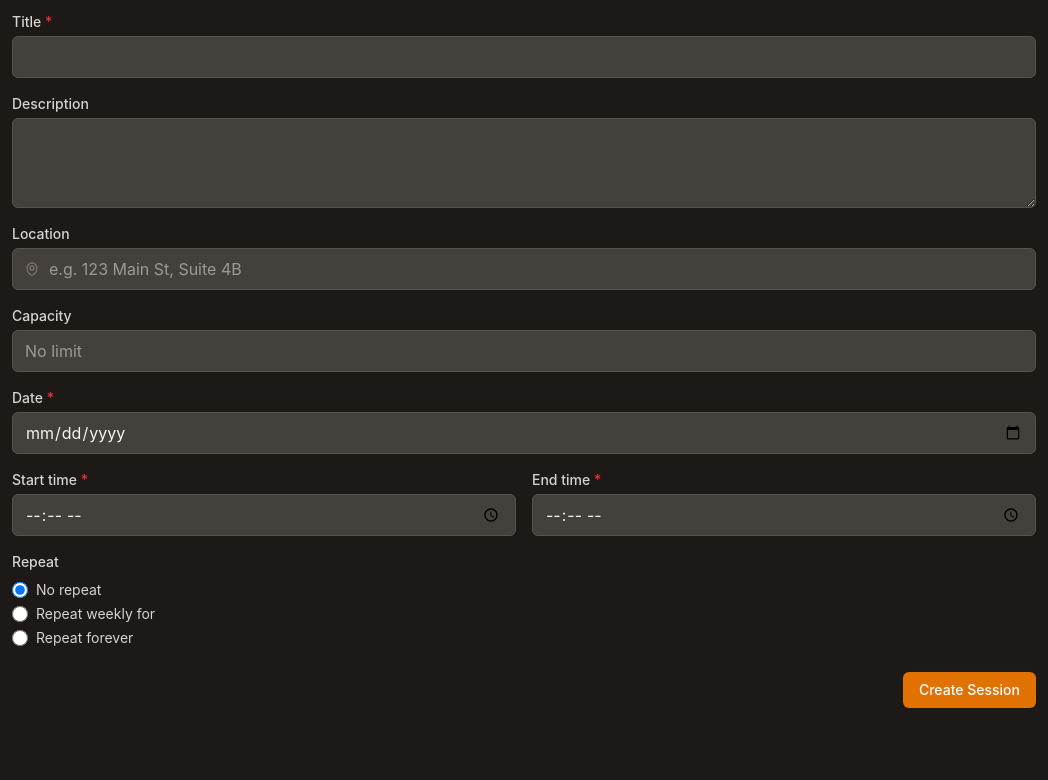
Test case: SessionForm › create mode › validates end time after start time
Type "Test" into the field labelled "Title *".
click(524, 57); type("Test")  # box [12, 36, 1036, 78]
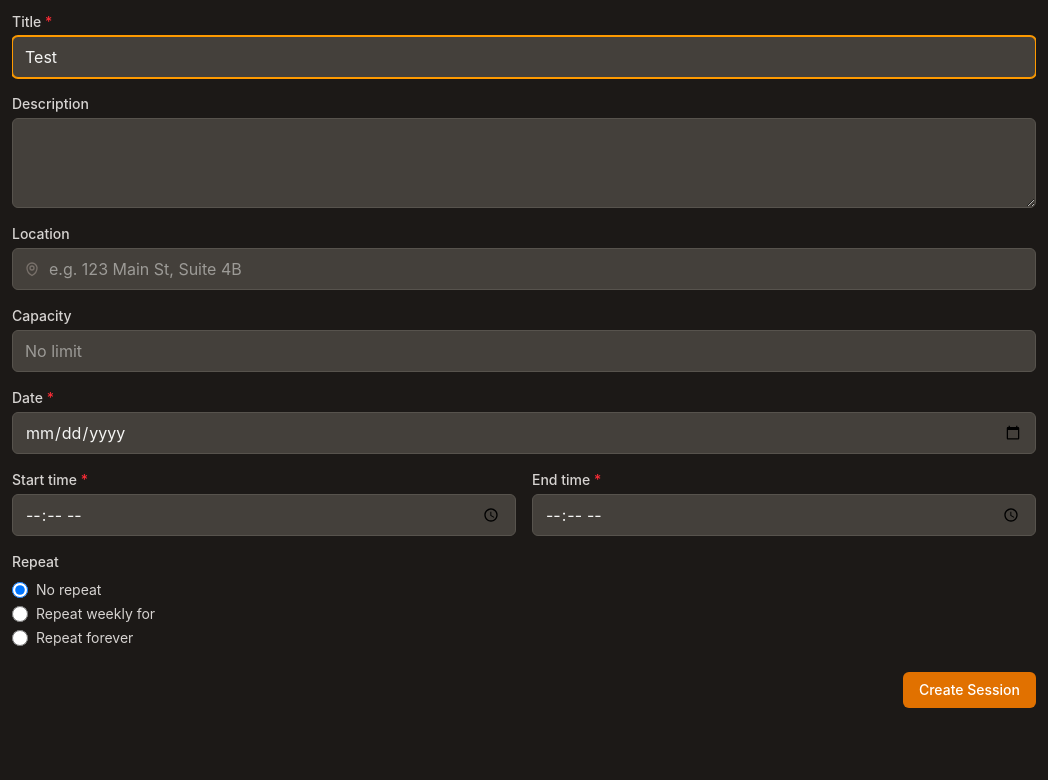
Type "2026-04-01" into the date field labelled "Date *".
click(524, 433); type("2026-04-01")  # box [12, 412, 1036, 454]
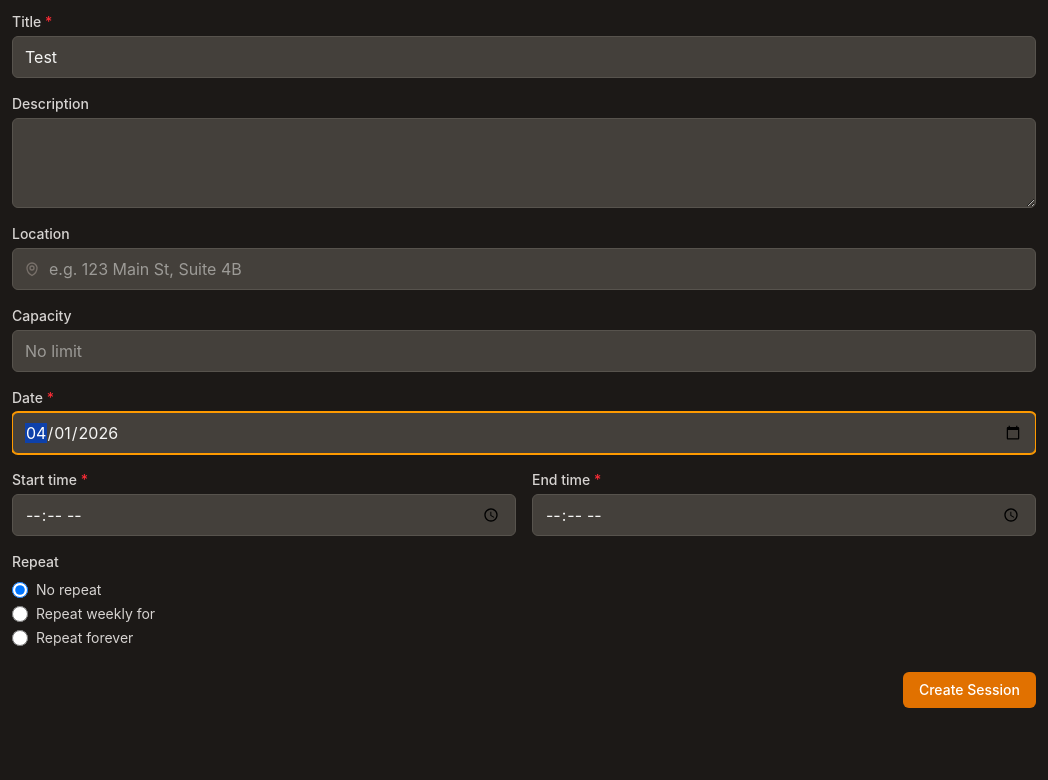
# Type time values using the input
Type "18:00" into the time field labelled "Start time *".
click(264, 515); type("18:00")  # box [12, 494, 516, 536]
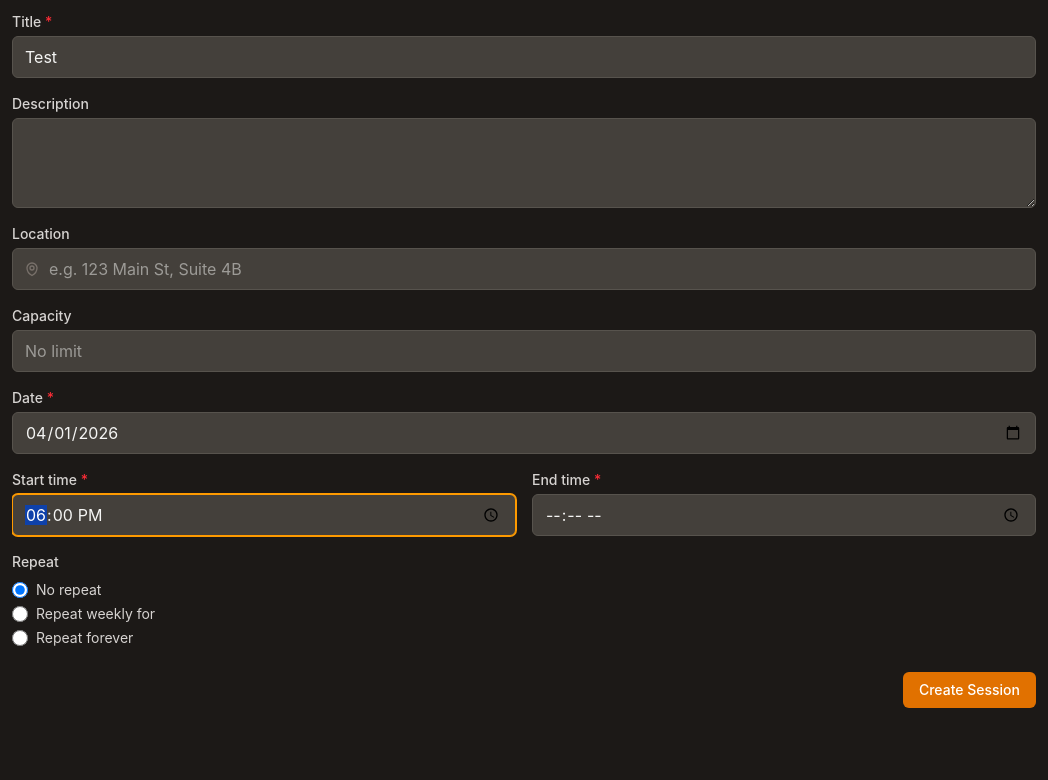
Type "14:00" into the time field labelled "End time *".
click(784, 515); type("14:00")  # box [532, 494, 1036, 536]
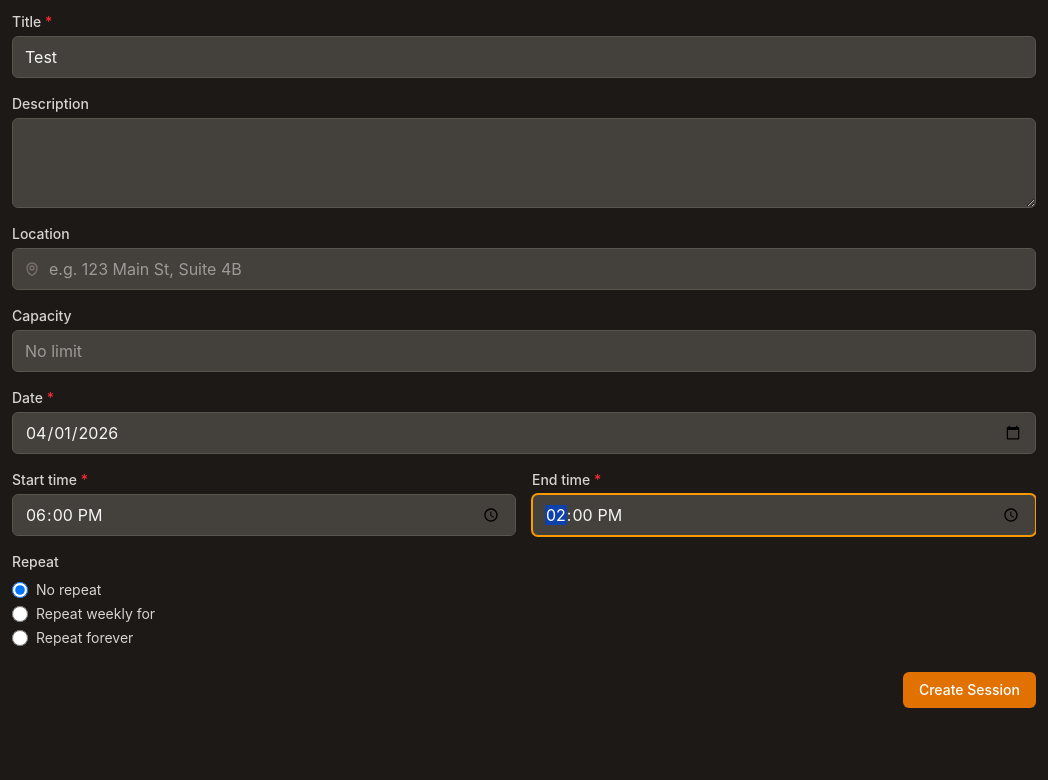
Click the button "Create Session".
click(969, 690)  # box [903, 672, 1036, 708]
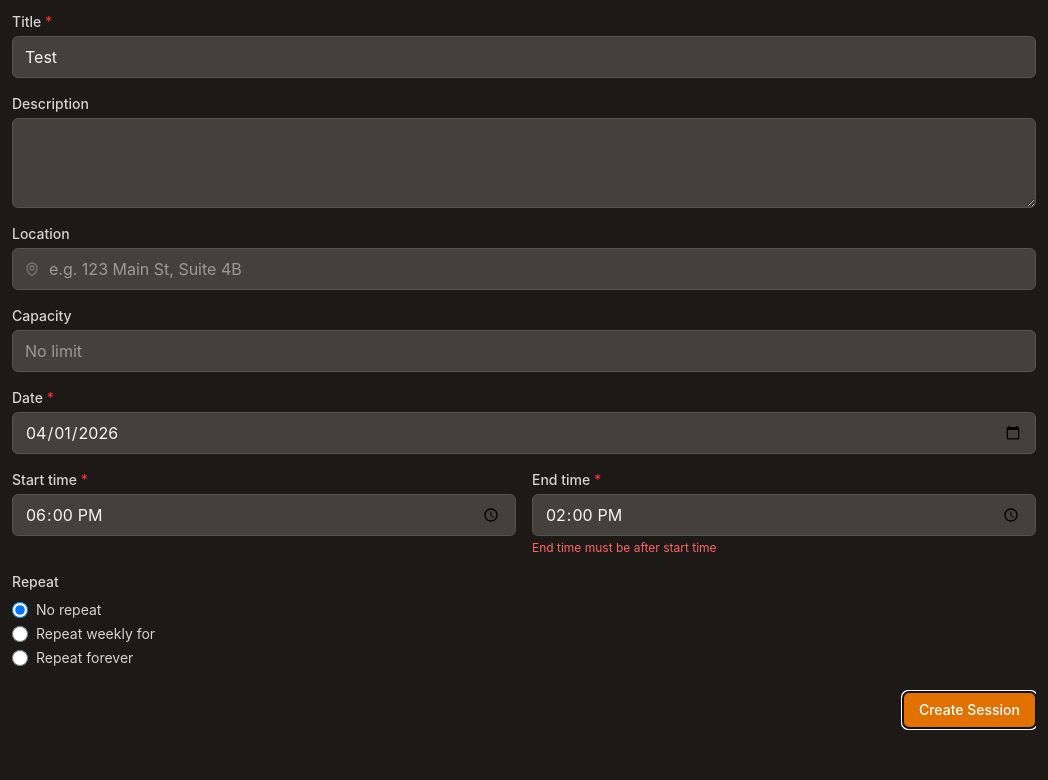
Check: the text "End time must be after start time" is shown, box [532, 540, 717, 555]
